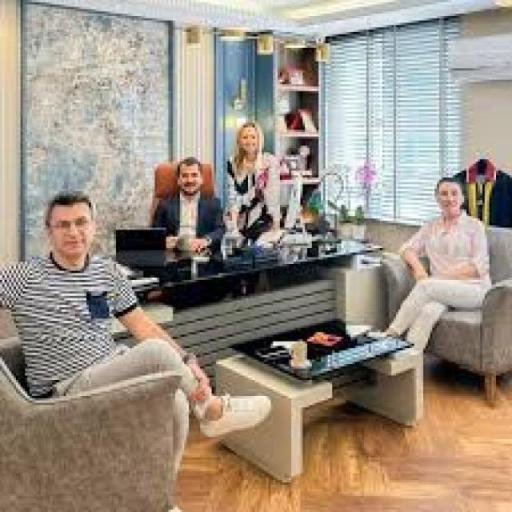sofa: (0, 308, 196, 512), (394, 194, 512, 416)
